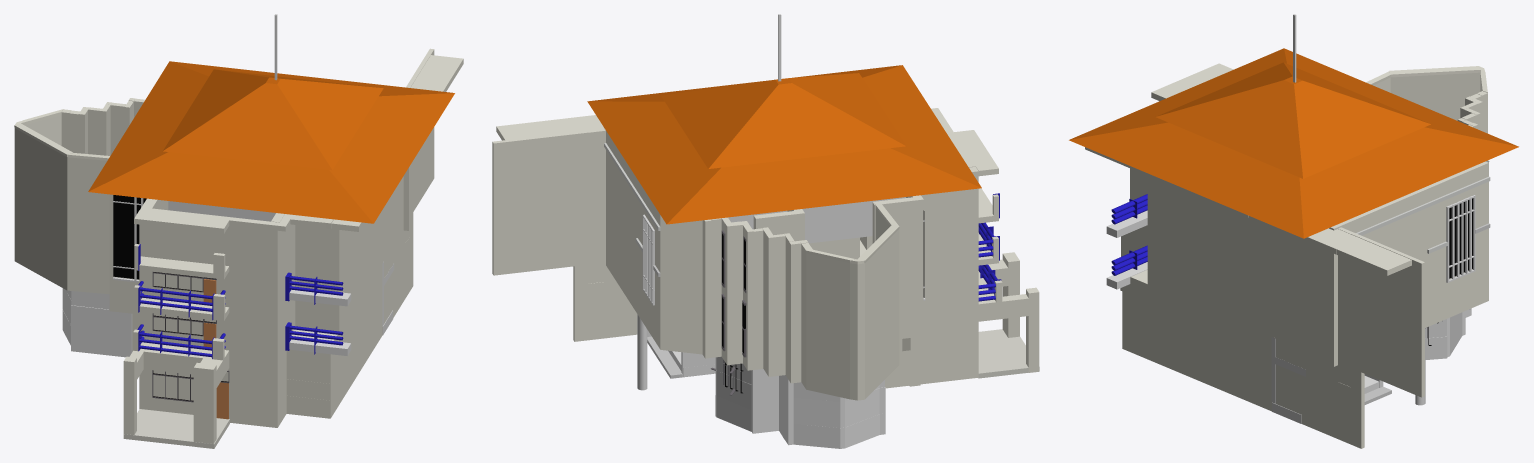
The picture shows the model from 3 angles, left to right: view 1: azimuth 30°, elevation 25°; view 2: azimuth 150°, elevation 25°; view 3: azimuth 270°, elevation 25°; orthographic projection. The views are drawn at different scales.
Visible parts, largest first — view 1: Cube.1205_Cube.1233, Cube.1897_Cube.1925, Cube.1076_Cube.1104, Cube.1898_Cube.1926, Cube.1942_Cube.1970, Cube.1079_Cube.1107, Cube.1085_Cube.1113, Cube.1245_Cube.1273, Cube.1900_Cube.1928, Cube.1090_Cube.1118, Cube.1337_Cube.1365, Cube.1094_Cube.1122; view 2: Cube.1076_Cube.1104, Cube.1897_Cube.1925, Cube.1942_Cube.1970, Cube.1205_Cube.1233, Cube.1898_Cube.1926, Cube.1079_Cube.1107, Cube.1900_Cube.1928, Cube.1085_Cube.1113, Cylinder.115_Cylinder.209, Cube.1082_Cube.1110; view 3: Cube.1205_Cube.1233, Cube.1897_Cube.1925, Cube.1942_Cube.1970, Cube.1898_Cube.1926, Cube.1076_Cube.1104, Cube.1079_Cube.1107, Cube.1630_Cube.1658, Cube.1661_Cube.1689, Cube.1337_Cube.1365, Cube.1081_Cube.1109, Cube.1090_Cube.1118.
Part boxes in pixels (left/top/right/bottom): Cube.1205_Cube.1233: left=109, top=182, right=399, bottom=448; Cube.1897_Cube.1925: left=88, top=61, right=454, bottom=223; Cube.1076_Cube.1104: left=14, top=98, right=410, bottom=294; Cube.1898_Cube.1926: left=163, top=69, right=383, bottom=170; Cube.1942_Cube.1970: left=361, top=48, right=463, bottom=347; Cube.1079_Cube.1107: left=62, top=261, right=394, bottom=357; Cube.1085_Cube.1113: left=124, top=409, right=229, bottom=448; Cube.1245_Cube.1273: left=113, top=195, right=146, bottom=279; Cube.1900_Cube.1928: left=168, top=201, right=275, bottom=221; Cube.1090_Cube.1118: left=289, top=339, right=351, bottom=355; Cube.1337_Cube.1365: left=289, top=289, right=351, bottom=306; Cube.1094_Cube.1122: left=216, top=382, right=228, bottom=419; Cube.1076_Cube.1104: left=606, top=131, right=899, bottom=400; Cube.1897_Cube.1925: left=587, top=65, right=981, bottom=224; Cube.1942_Cube.1970: left=492, top=115, right=920, bottom=386; Cube.1205_Cube.1233: left=860, top=108, right=1039, bottom=388; Cube.1898_Cube.1926: left=661, top=73, right=905, bottom=168; Cube.1079_Cube.1107: left=715, top=356, right=885, bottom=448; Cube.1900_Cube.1928: left=728, top=197, right=905, bottom=243; Cube.1085_Cube.1113: left=978, top=329, right=1039, bottom=378; Cylinder.115_Cylinder.209: left=637, top=314, right=647, bottom=390; Cube.1082_Cube.1110: left=647, top=336, right=713, bottom=378; Cube.1205_Cube.1233: left=1085, top=63, right=1322, bottom=408; Cube.1897_Cube.1925: left=1069, top=48, right=1518, bottom=238; Cube.1942_Cube.1970: left=1211, top=211, right=1424, bottom=448; Cube.1898_Cube.1926: left=1156, top=62, right=1430, bottom=178; Cube.1076_Cube.1104: left=1329, top=66, right=1489, bottom=366; Cube.1079_Cube.1107: left=1271, top=308, right=1471, bottom=403; Cube.1630_Cube.1658: left=1449, top=198, right=1472, bottom=278; Cube.1661_Cube.1689: left=1356, top=176, right=1490, bottom=235; Cube.1337_Cube.1365: left=1106, top=210, right=1147, bottom=237; Cube.1081_Cube.1109: left=1272, top=376, right=1379, bottom=423; Cube.1090_Cube.1118: left=1106, top=262, right=1147, bottom=289.
Size of the model in its own units: 533 by 396 by 461.
